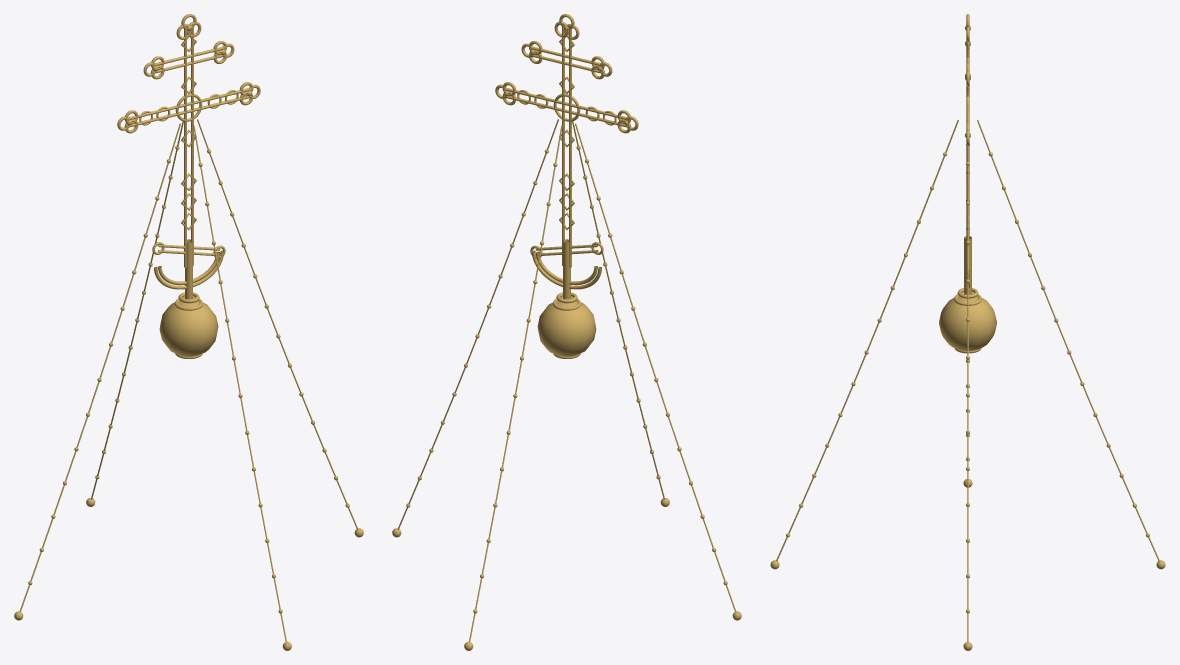
The model's file is central-cross.draco.glb.
3 views of the same model, side by side, from view 1: azimuth 30°, elevation 25°; view 2: azimuth 150°, elevation 25°; view 3: azimuth 270°, elevation 25° (orthographic).
Visible parts, largest first — view 1: CentralCross_Blender; view 2: CentralCross_Blender; view 3: CentralCross_Blender.
Boxes of the visible parts, <box> form: CentralCross_Blender: <box>14,14,363,650</box>; CentralCross_Blender: <box>392,14,741,650</box>; CentralCross_Blender: <box>770,14,1165,650</box>.
Size of the model in its own units: 6.51 by 10.07 by 6.51.
